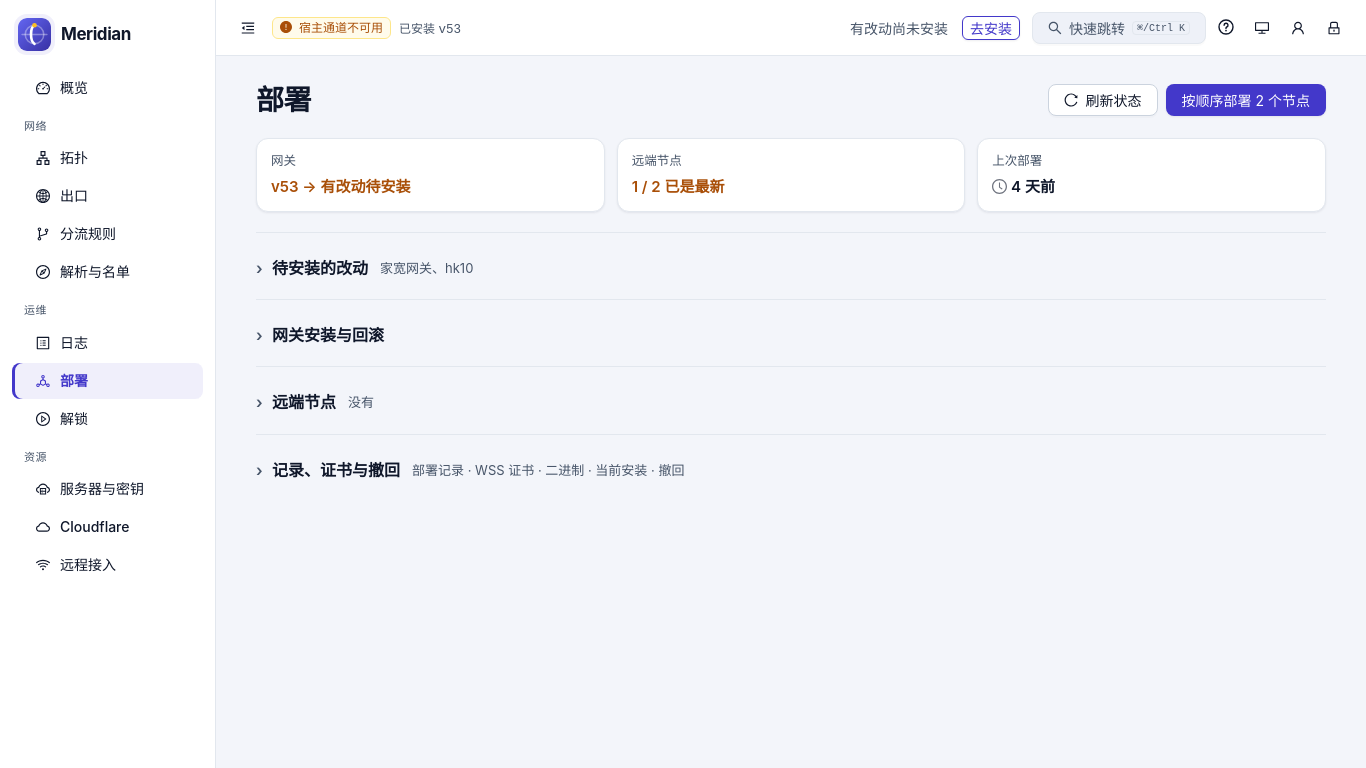
Test: 部署: three status cards, one main action, the rest folded › sums up the gateway, the remote nodes and the last install, and deploys from the header
Check: the element with test id "deploy-stat-gateway" shows "有改动待安装", box [320,177,410,196]
Check: the element with test id "deploy-stat-remote" shows "1 / 2 已是最新", box [617,138,965,212]
Click the button with test id "deploy-auto". click: [1246, 100]
box: [1166,84,1326,116]
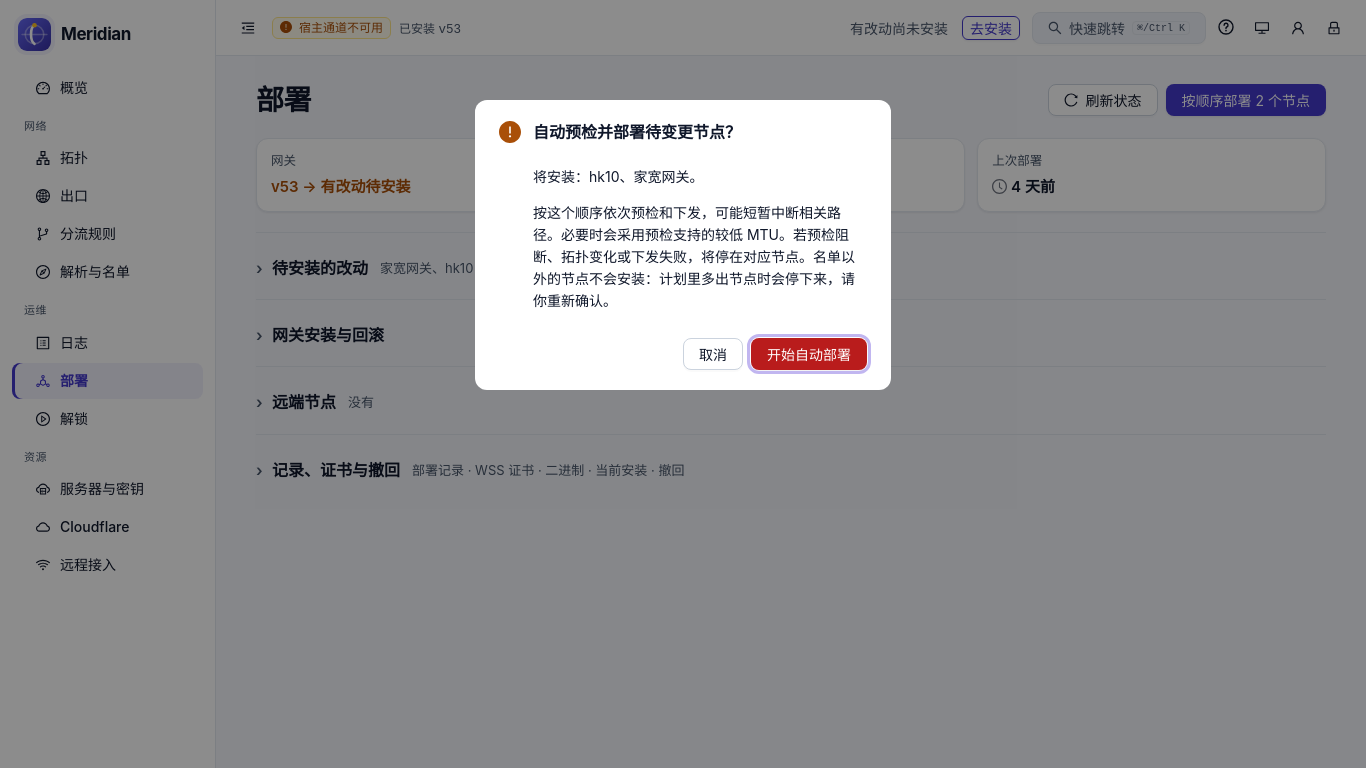
Check: the element with test id "deploy-auto-confirm" shows "将安装：hk10、家宽网关", box [533,168,704,185]
